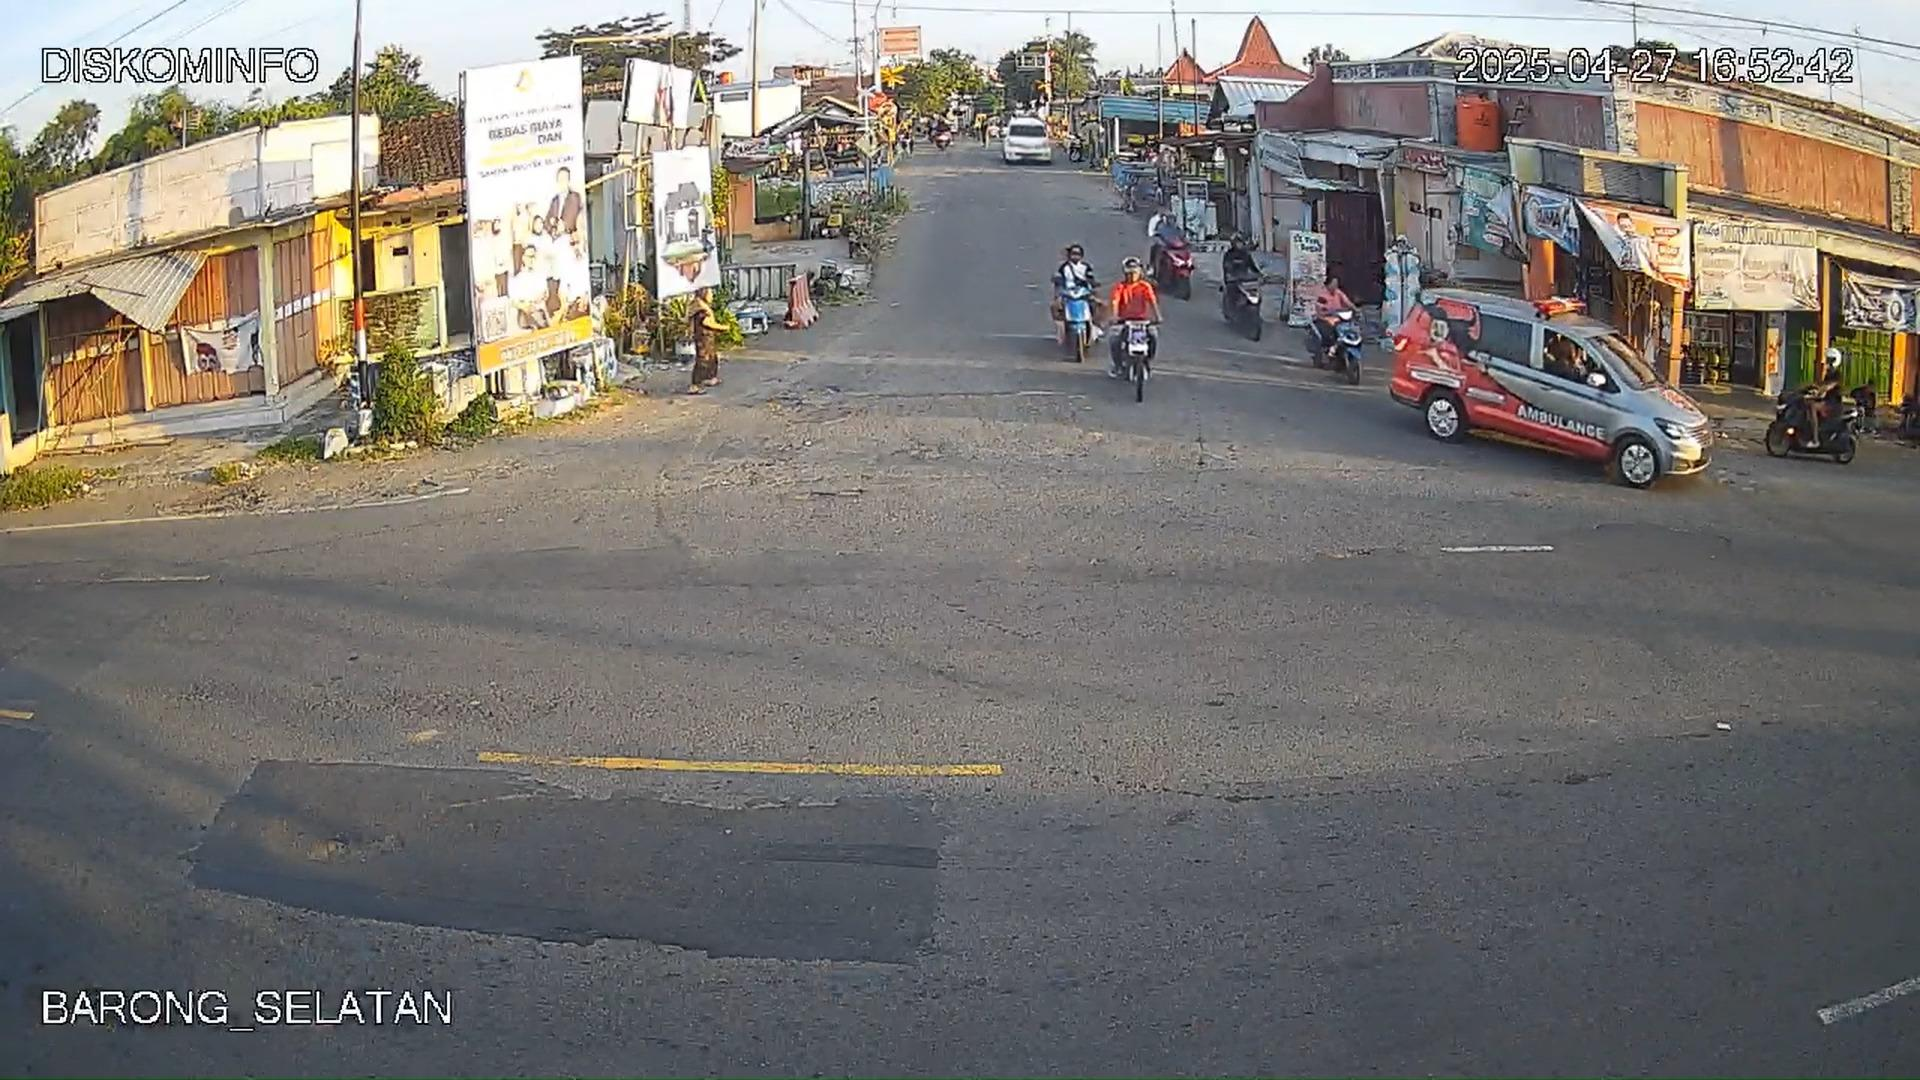Motor: (1098, 289, 1175, 401), (1305, 301, 1365, 384), (1147, 231, 1196, 301)
mobil: (1387, 284, 1709, 484)
